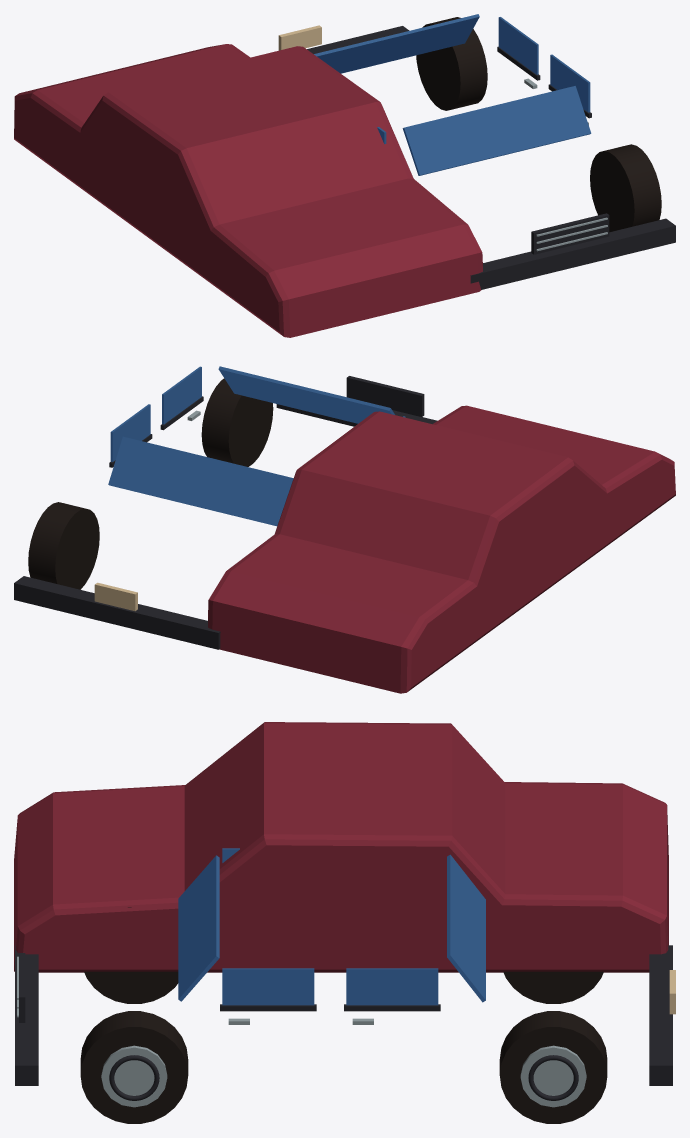
Rendered from mia-car.glb.
3 views of the same model, one above another, from view 1: azimuth 30°, elevation 25°; view 2: azimuth 150°, elevation 25°; view 3: azimuth 270°, elevation 25° (orthographic). The views are drawn at different scales.
Parts seen in each view (by area): view 1: Body_velvet, Body_night-glass, Body_black, Body_iron, Body_ivory, Body_steel; view 2: Body_velvet, Body_night-glass, Body_black, Body_iron, Body_ivory; view 3: Body_velvet, Body_black, Body_night-glass, Body_iron, Body_steel.
Part boxes in pixels (<box>): Body_velvet: <box>14,44,482,337</box>; Body_night-glass: <box>314,14,591,175</box>; Body_black: <box>416,17,661,232</box>; Body_iron: <box>307,26,675,289</box>; Body_ivory: <box>278,25,321,50</box>; Body_steel: <box>524,78,607,251</box>; Body_velvet: <box>208,405,675,693</box>; Body_night-glass: <box>108,366,405,526</box>; Body_black: <box>28,378,273,589</box>; Body_iron: <box>14,376,437,649</box>; Body_ivory: <box>94,582,137,611</box>; Body_velvet: <box>14,722,668,972</box>; Body_black: <box>80,907,607,1123</box>; Body_night-glass: <box>178,848,485,1005</box>; Body_iron: <box>15,945,672,1100</box>; Body_steel: <box>17,956,586,1107</box>.
Size of the model in its own units: 3.56 by 1.14 by 4.11.
